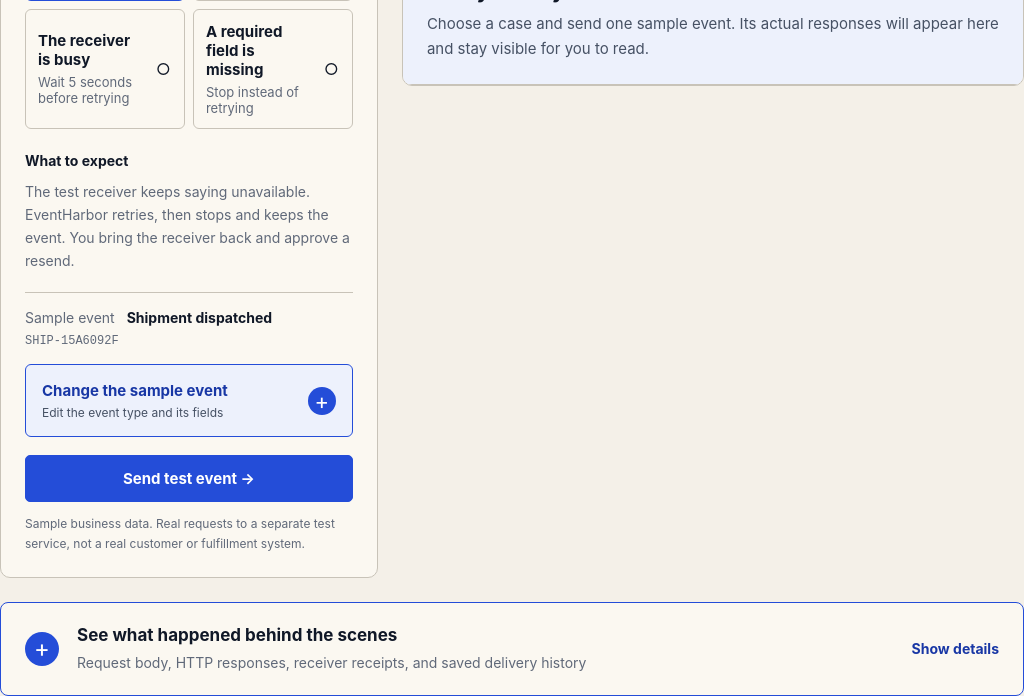
ControlRoomExperience › opens a correction link as a fresh valid draft instead of restoring the stopped event
This screenshot has width=1024, height=696.
(page scrolled)
Click the text "Change the sample event" at (135, 391), box [42,381,228,400]
(page scrolled)
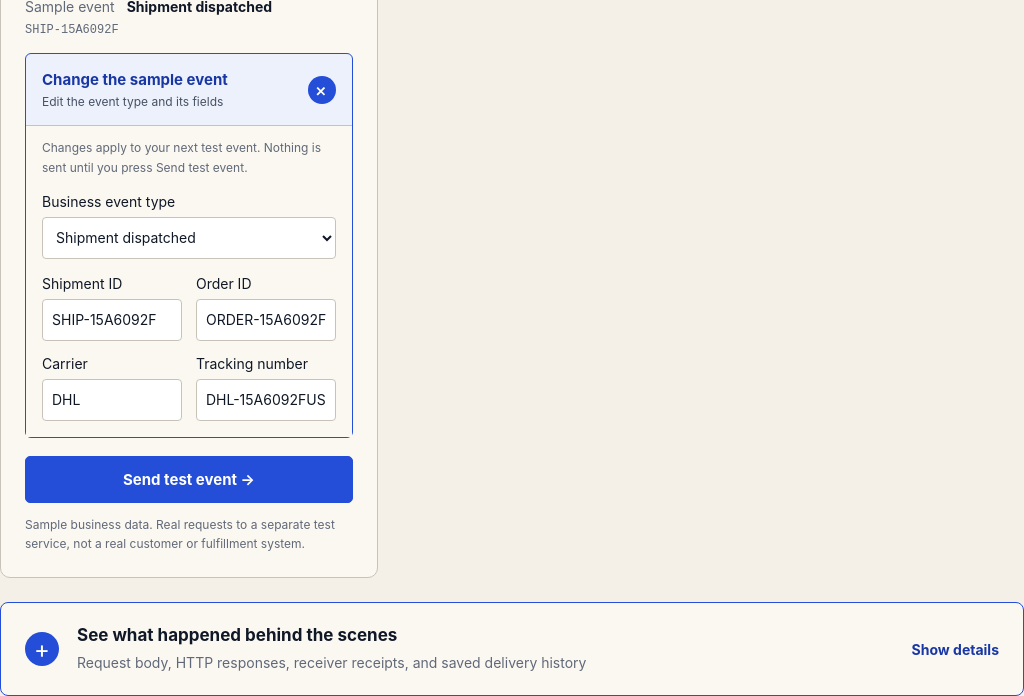
Now the dropdown labelled "Business event type" shows "Shipment dispatched", box [42,217,336,259]
Now the field labelled "Tracking number" is not empty, box [196,379,336,421]
